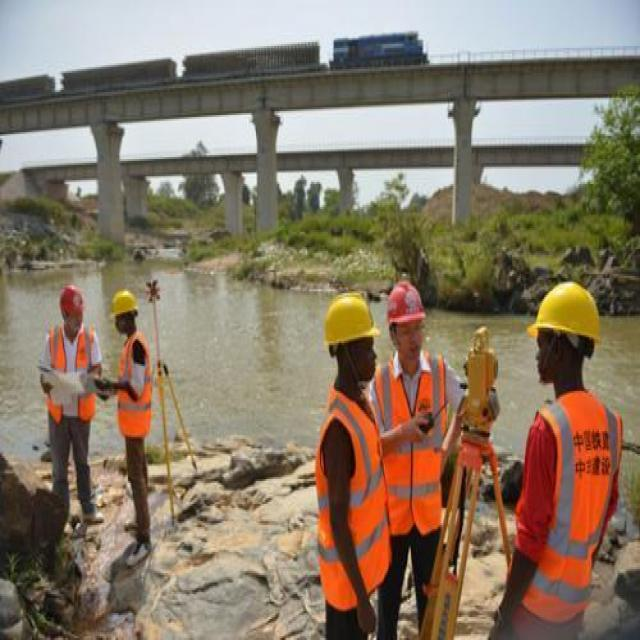boots: (123, 543, 150, 568), (84, 497, 100, 514)
gloves: (480, 379, 500, 425)
hardhat: (521, 276, 603, 350), (324, 293, 382, 339), (384, 276, 431, 323), (109, 288, 139, 318), (57, 286, 83, 314)
no_gloves: (403, 407, 435, 444), (358, 601, 376, 640)
person: (360, 279, 500, 640), (486, 279, 622, 639), (312, 290, 392, 640), (36, 282, 107, 526), (96, 288, 156, 572)
vest: (514, 381, 620, 640), (312, 387, 392, 614), (370, 352, 452, 532), (46, 320, 100, 418), (114, 328, 149, 441)
